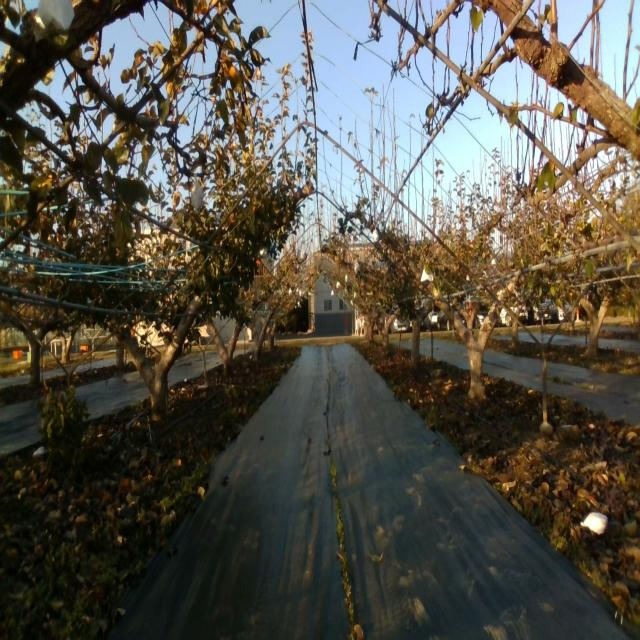pearbags: (33, 0, 75, 43), (190, 174, 203, 215)
